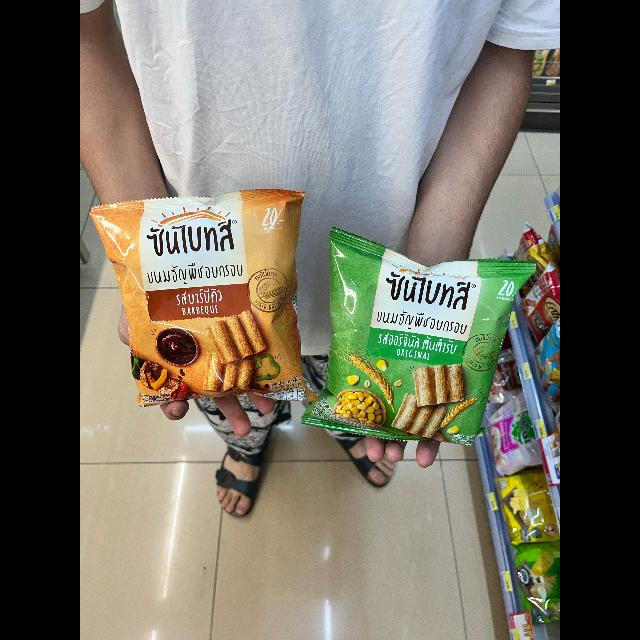snack_bag: (306, 228, 542, 460), (88, 189, 326, 415)
